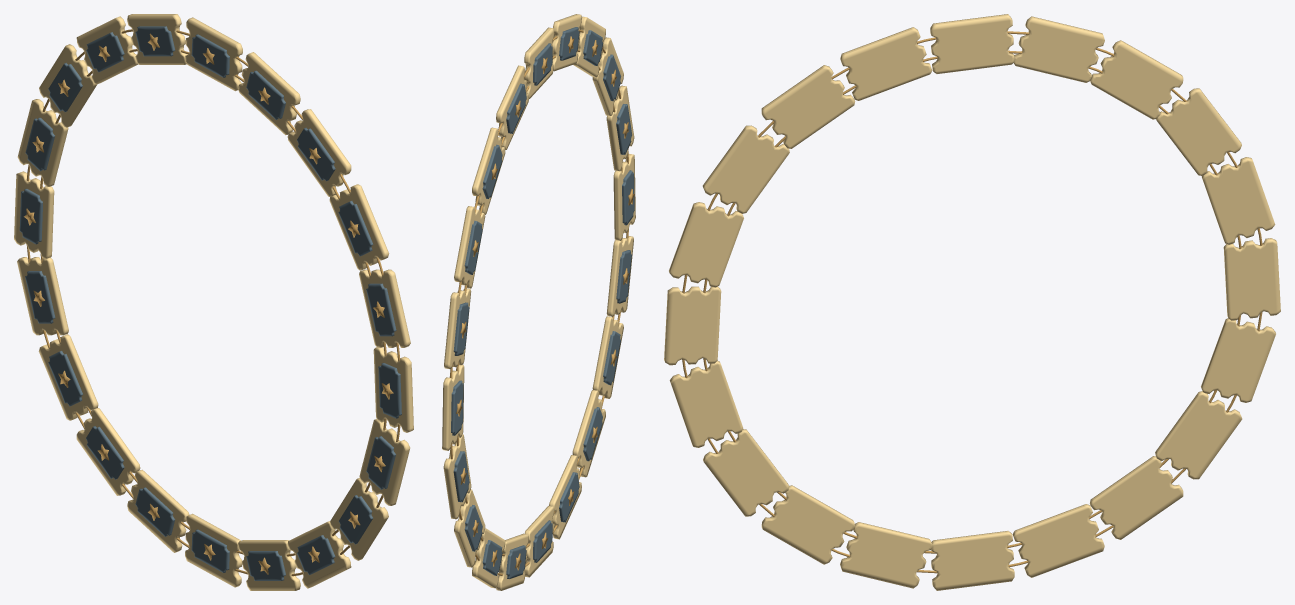
Rendered from Staring.fbx.
3 renders of one model, left to right at view 1: azimuth 30°, elevation 25°; view 2: azimuth 150°, elevation 25°; view 3: azimuth 270°, elevation 25°, orthographic. The views are drawn at different scales.
Visible parts, largest first — view 1: 立方体_instance_22, 立方体_instance_24, 立方体_instance_2, 立方体_instance_4, 立方体_2, 立方体_instance_26, 立方体_instance_6, 立方体_instance_20, 立方体_instance_8, 立方体_instance_28, 立方体_instance_18, 立方体_instance_10 (+30 smaller); view 2: 立方体_instance_38, 立方体_instance_20, 立方体_instance_36, 立方体_instance_18, 立方体_instance_16, 立方体_2, 立方体_instance_34, 立方体_instance_14, 立方体_instance_12, 立方体_instance_22, 立方体_instance_2, 立方体_instance_32 (+30 smaller); view 3: 立方体_instance_28, 立方体_instance_8, 立方体_instance_10, 立方体_instance_6, 立方体_instance_30, 立方体_instance_26, 立方体_instance_24, 立方体_instance_4, 立方体_instance_32, 立方体_instance_12, 立方体_instance_2, 立方体_instance_22 (+10 smaller).
Boxes of the visible parts, left/top/right/bottom form: 立方体_instance_22: left=17, top=257, right=68, bottom=335; 立方体_instance_24: left=38, top=334, right=98, bottom=420; 立方体_instance_2: left=359, top=269, right=410, bottom=347; 立方体_instance_4: left=329, top=184, right=389, bottom=270; 立方体_2: left=373, top=347, right=413, bottom=432; 立方体_instance_26: left=76, top=408, right=140, bottom=495; 立方体_instance_6: left=287, top=109, right=351, bottom=196; 立方体_instance_20: left=14, top=171, right=54, bottom=258; 立方体_instance_8: left=238, top=52, right=300, bottom=135; 立方体_instance_28: left=127, top=469, right=189, bottom=552; 立方体_instance_18: left=17, top=99, right=68, bottom=187; 立方体_instance_10: left=185, top=17, right=242, bottom=91; 立方体_instance_38: left=606, top=236, right=633, bottom=316; 立方体_instance_20: left=442, top=365, right=464, bottom=450; 立方体_instance_36: left=592, top=316, right=623, bottom=398; 立方体_instance_18: left=444, top=288, right=471, bottom=368; 立方体_instance_16: left=454, top=206, right=485, bottom=288; 立方体_2: left=613, top=154, right=635, bottom=240; 立方体_instance_34: left=572, top=390, right=605, bottom=477; 立方体_instance_14: left=472, top=127, right=505, bottom=214; 立方体_instance_12: left=496, top=65, right=528, bottom=149; 立方体_instance_22: left=443, top=434, right=471, bottom=519; 立方体_instance_2: left=606, top=85, right=634, bottom=171; 立方体_instance_32: left=549, top=455, right=581, bottom=539; 立方体_instance_28: left=1012, top=504, right=1104, bottom=577; 立方体_instance_8: left=840, top=27, right=932, bottom=100; 立方体_instance_10: left=930, top=14, right=1014, bottom=73; 立方体_instance_6: left=761, top=65, right=855, bottom=148; 立方体_instance_30: left=931, top=531, right=1014, bottom=590; 立方体_instance_26: left=1089, top=456, right=1183, bottom=539; 立方体_instance_24: left=1155, top=391, right=1242, bottom=479; 立方体_instance_4: left=702, top=125, right=789, bottom=213; 立方体_instance_32: left=840, top=522, right=932, bottom=588; 立方体_instance_12: left=1013, top=16, right=1104, bottom=82; 立方体_instance_2: left=669, top=202, right=743, bottom=287; 立方体_instance_22: left=1201, top=318, right=1275, bottom=402.
Size of the model in its own units: 25.32 by 124 by 126.
